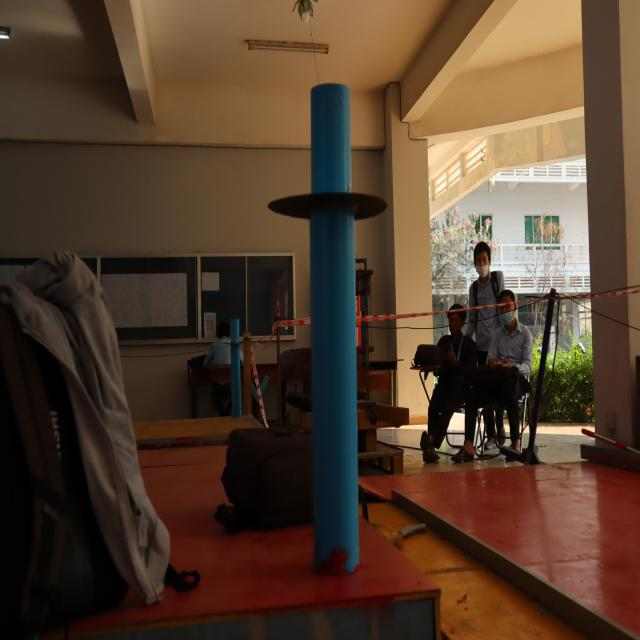pole: (260, 72, 393, 319), (223, 315, 260, 390)
